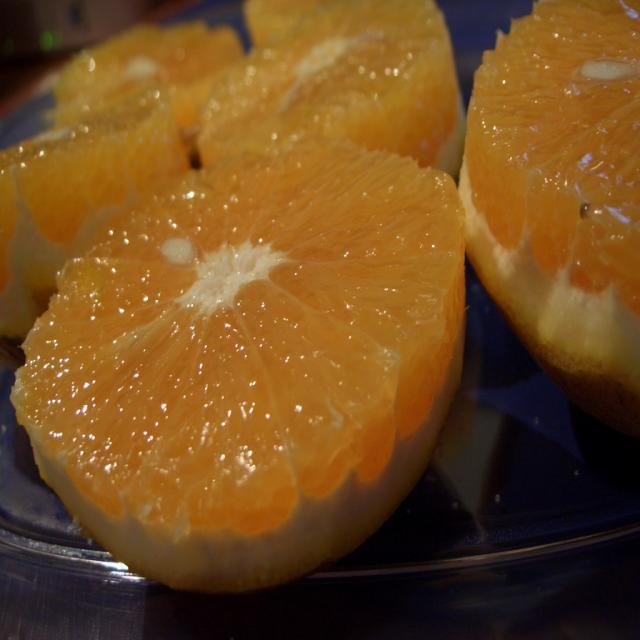Orange: (22, 37, 487, 561)
